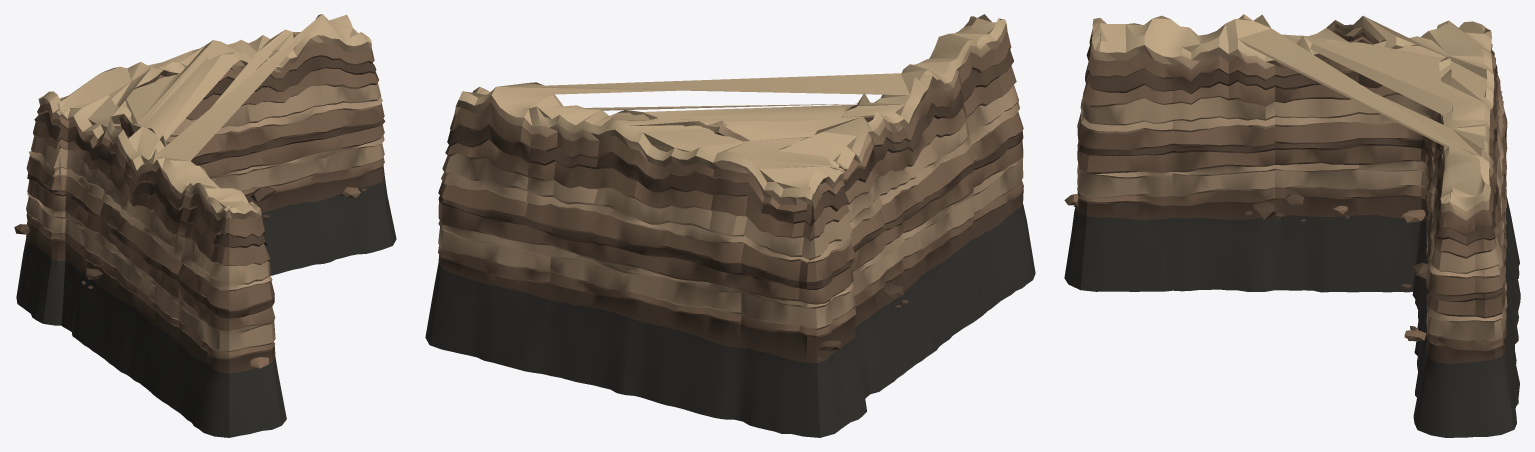
Rendered from parede-l-espelhada.glb.
3 renders of one model, left to right at view 1: azimuth 30°, elevation 25°; view 2: azimuth 150°, elevation 25°; view 3: azimuth 270°, elevation 25°, orthographic. The views are drawn at different scales.
Visible parts, largest first — view 1: parede-l-espelhada; view 2: parede-l-espelhada; view 3: parede-l-espelhada.
Boxes of the visible parts, left/top/right/bottom form: parede-l-espelhada: left=14, top=14, right=396, bottom=437; parede-l-espelhada: left=425, top=14, right=1035, bottom=437; parede-l-espelhada: left=1064, top=14, right=1520, bottom=437.
Size of the model in its own units: 276 by 164 by 272.
